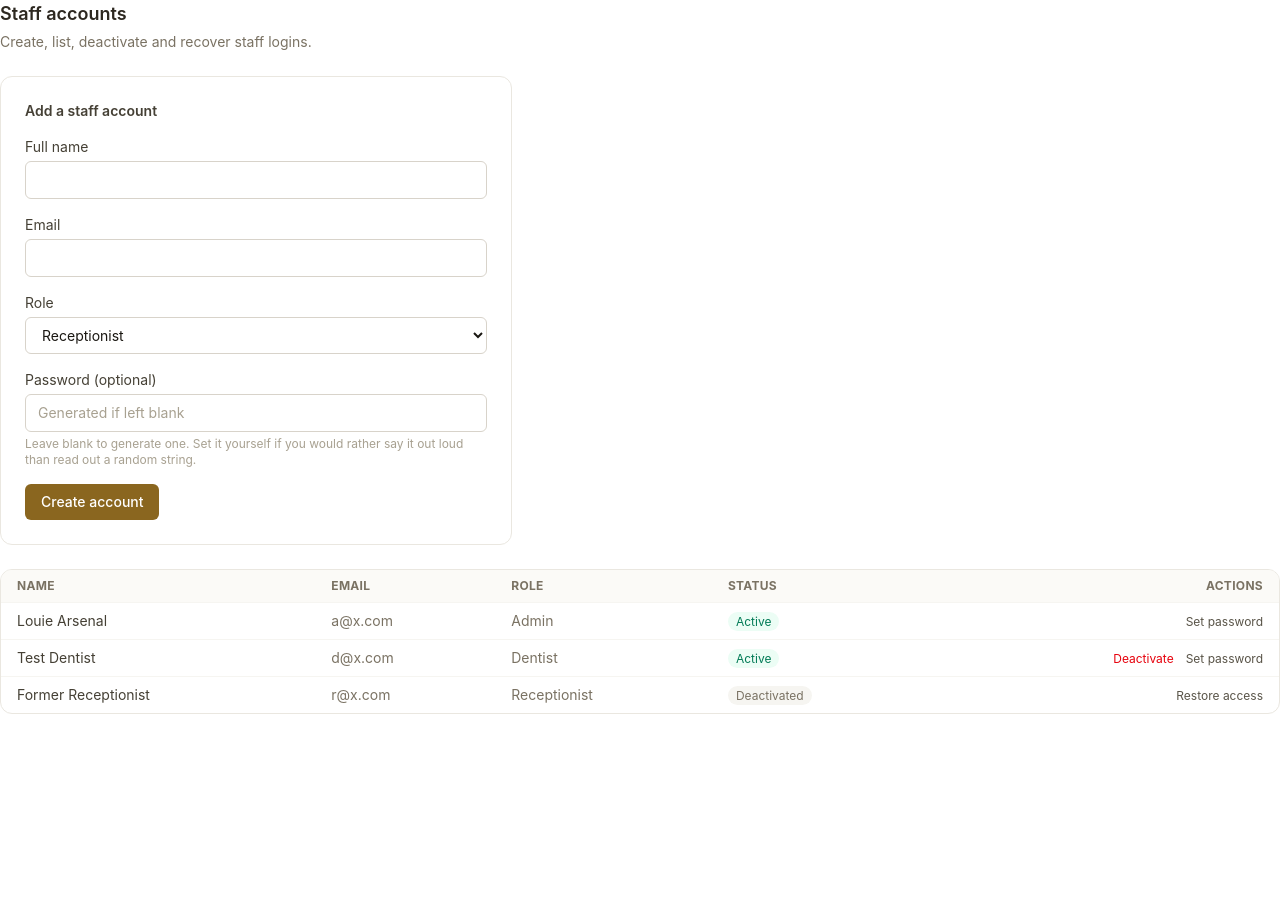
Test: StaffManagementPage › reports a failed reset inside the dialog
expect the text "Test Dentist" is shown: met, box [1,640,315,676]
Click the button "Set password" in the row of "Test Dentist". click: (1224, 659)
box: [1186,651,1263,667]
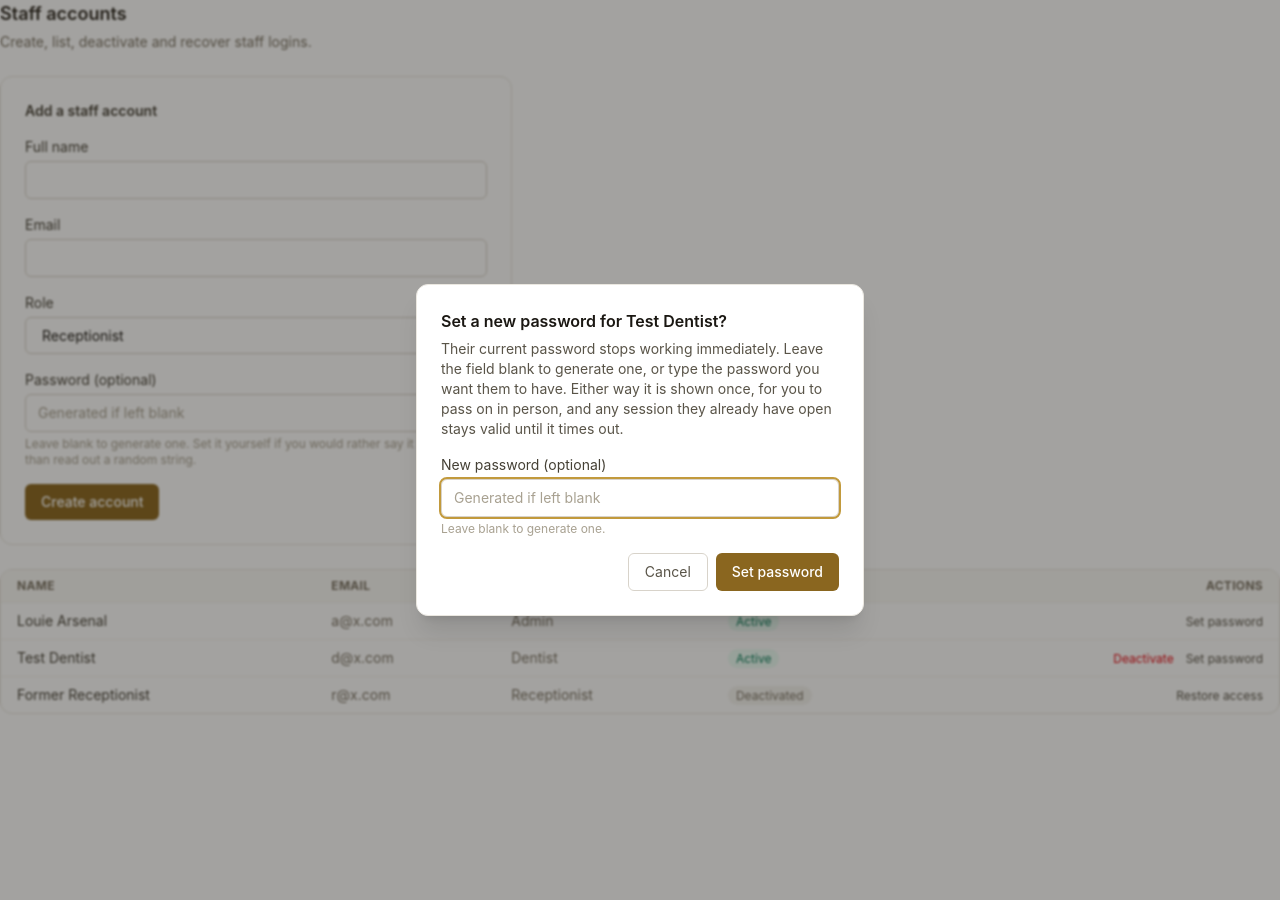
Click the button "Set password". click: (777, 572)
box: [716,553,839,591]
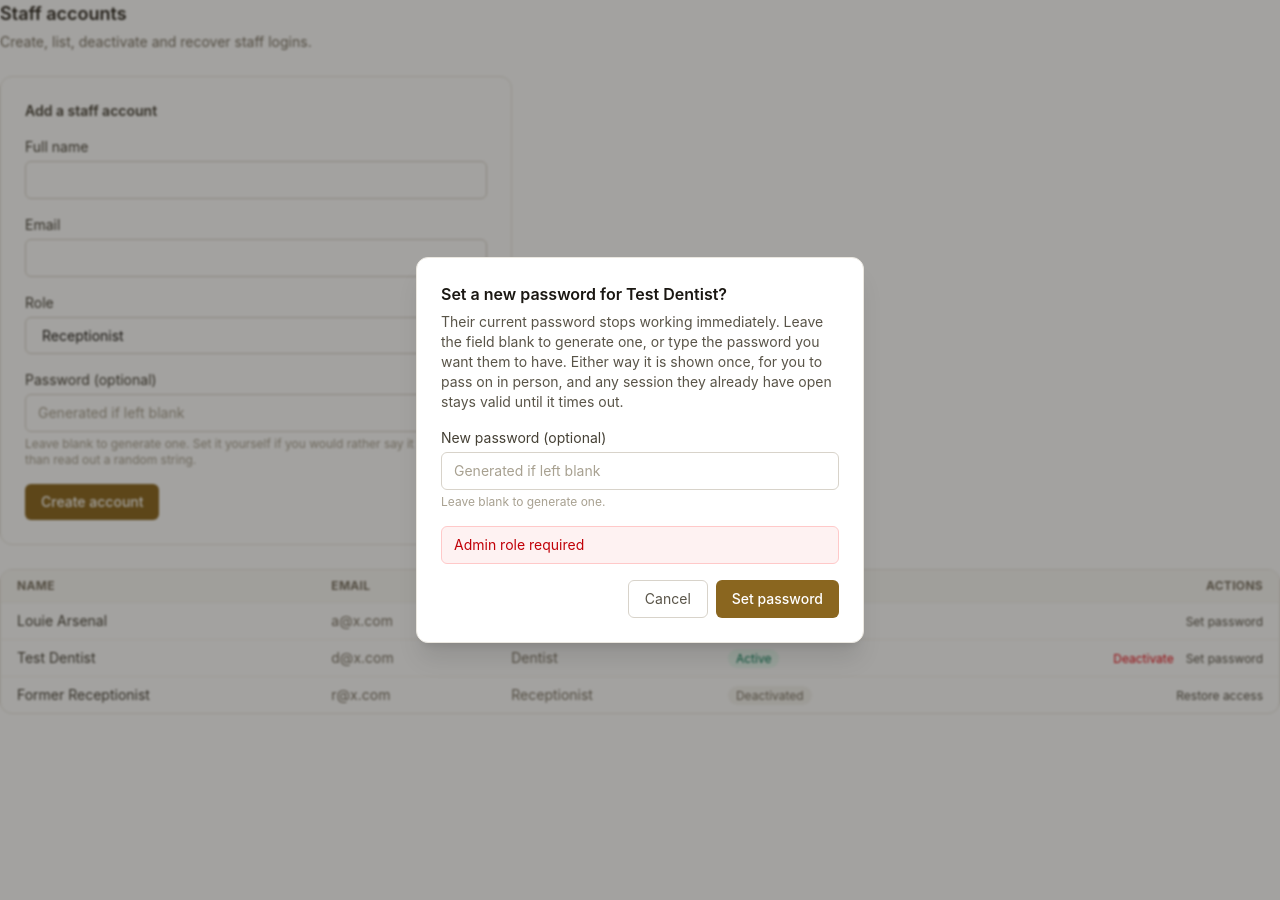
expect the message reads "Admin role required": met, box [454,536,584,553]
